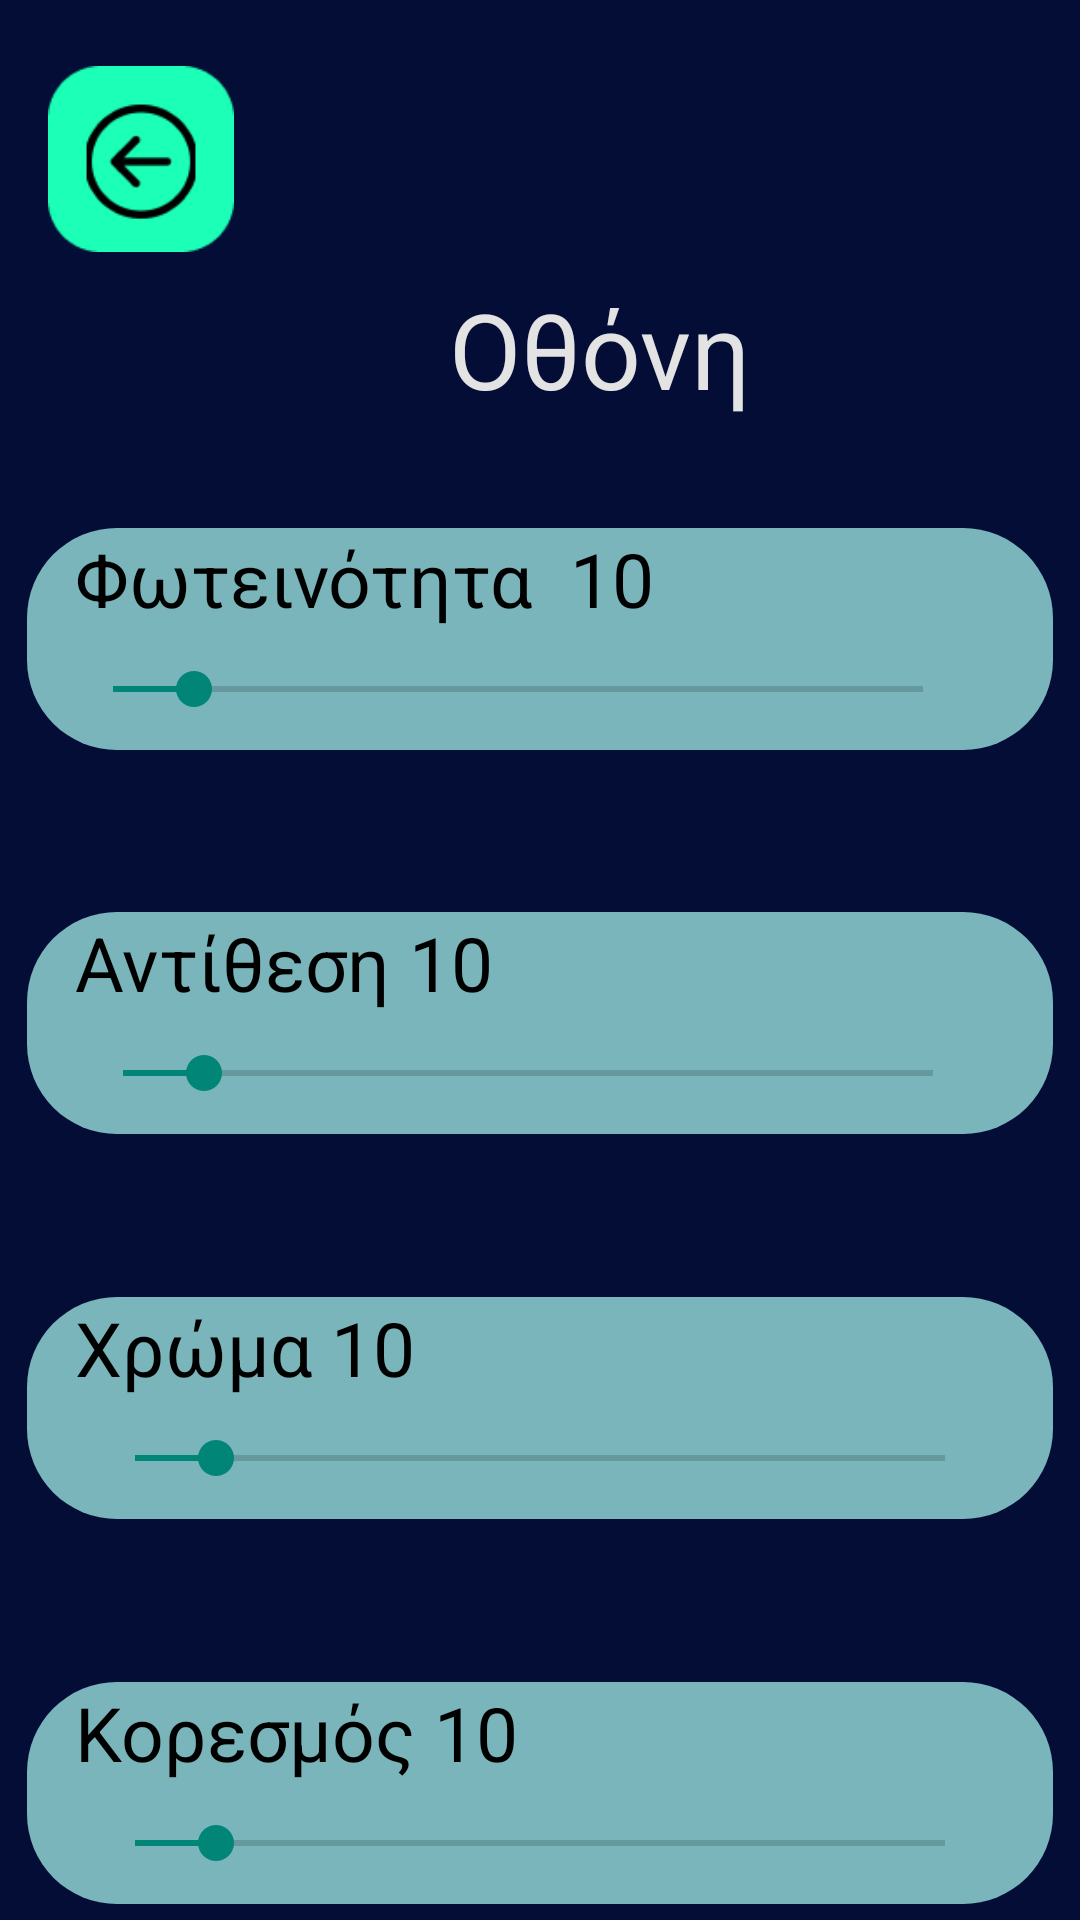

Named icons in this screenshot (1080w x 1920h) and their centers, (x=x, y=y):
back: (x=141, y=159)
